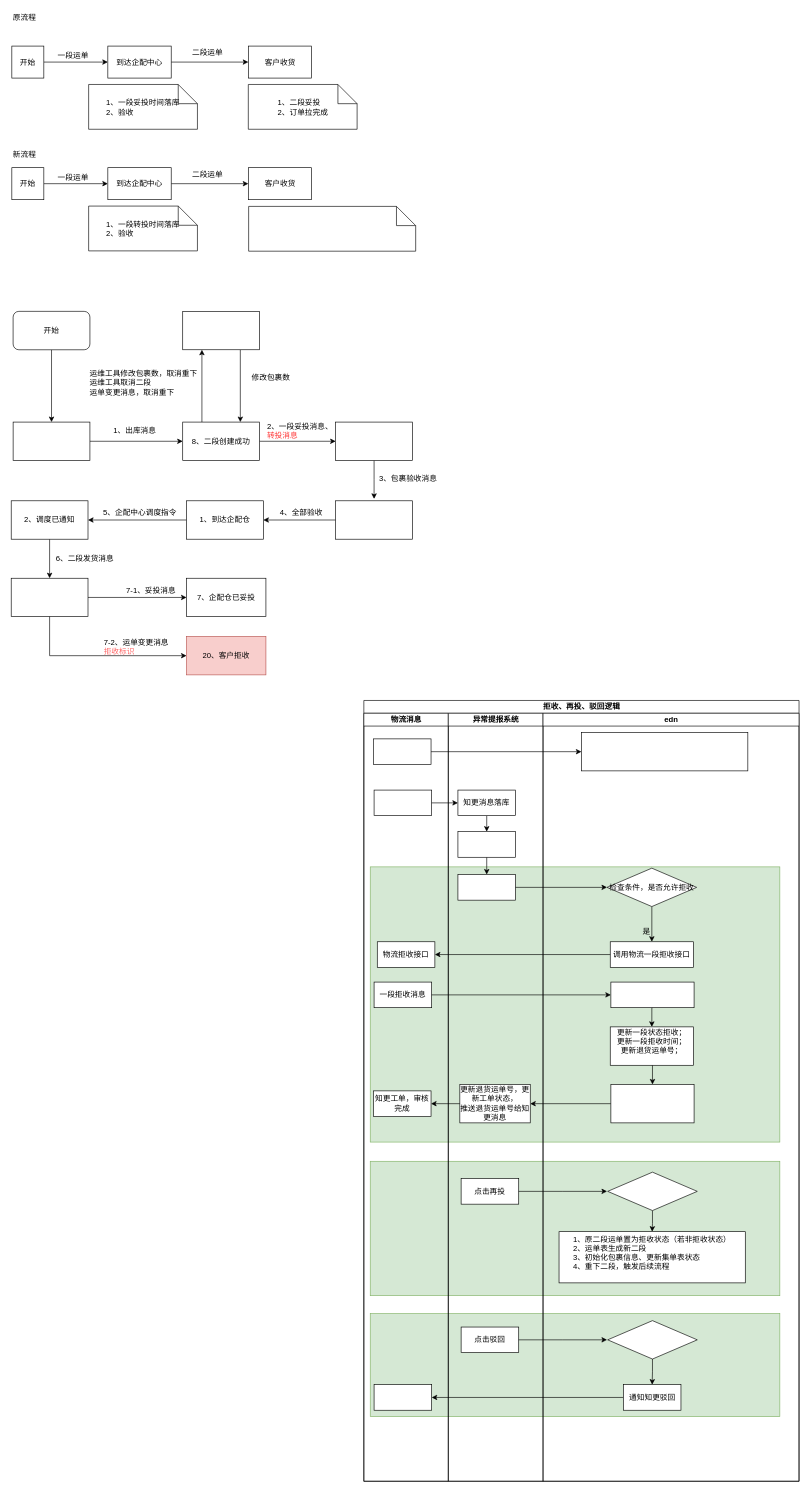
The diagram is 810 pixels wide and 1492 high, and some of its shapes have lost their labels. The centre of each missing label's shape, as x and y in pixels:
0、未到企配仓: the point at 51,440
10、部分到达企配仓: the point at 373,519
11、待验收: the point at 373,440
12 、已发货: the point at 49,597
1、二段妥投、拒收、一段转投拉妥投 2、订单拉完成: the point at 332,228
9、二段运单取消: the point at 221,330
二段拒收消息: the point at 402,751
推送退货运单号给异常提报系统（方式待定）: the point at 652,1103
根据筛选条件，拒收列表: the point at 486,844
检查条件，是否允许再投: the point at 652,1191
检查条件，是否允许驳回: the point at 652,1339
点击拒收: the point at 486,887
物流知更平台消息推送: the point at 402,802
监听物流一段拒收消息（JDT运单）: the point at 652,994
知更工单，接收驳回消息: the point at 402,1397
运单表：拒收时间、运单状态 relation表：deliveryStatus状态变更: the point at 664,751
